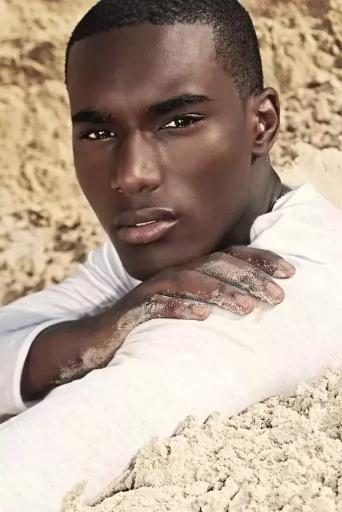left_eye: (158, 112, 213, 134)
left_lip_corner: (173, 213, 186, 228)
right_eye: (78, 129, 121, 147)
right_lip_corner: (111, 219, 124, 236)
